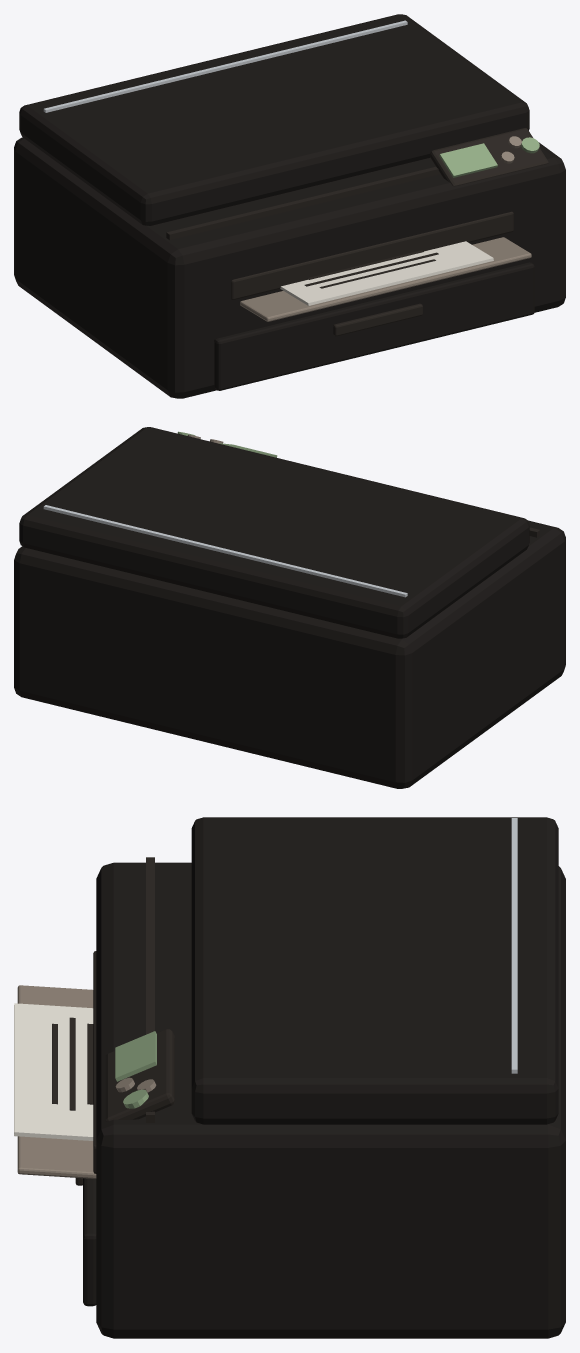
Rendered from hh_cat_printer.glb.
3 views of the same model, one above another, from view 1: azimuth 30°, elevation 25°; view 2: azimuth 150°, elevation 25°; view 3: azimuth 270°, elevation 25° (orthographic). The views are drawn at different scales.
Visible parts, largest first — view 1: scanner_lid, body, paper_drawer, output_slot, sheet, output_shelf, panel, lid_seam, hinge_line, display, drawer_grip; view 2: body, scanner_lid, hinge_line; view 3: body, scanner_lid, sheet, output_shelf, panel, hinge_line, paper_drawer, lid_seam, display, output_slot, print_line.002.
Part boxes in pixels (x1,y1,x2,y2): scanner_lid: (19,14,529,225); body: (14,137,565,398); paper_drawer: (214,262,534,390); output_slot: (231,211,513,299); sheet: (280,241,493,305); output_shelf: (240,237,531,321); panel: (430,128,548,186); lid_seam: (166,144,540,240); hinge_line: (43,20,407,112); display: (439,143,497,177); drawer_grip: (333,303,422,336); body: (14,520,565,788); scanner_lid: (19,427,529,638); hinge_line: (43,505,407,597); body: (96,862,565,1338); scanner_lid: (191,817,558,1124); sheet: (14,1003,93,1140); output_shelf: (17,985,96,1178); panel: (105,1029,174,1121); hinge_line: (511,818,517,1073); paper_drawer: (83,1178,96,1306); lid_seam: (146,857,154,1122); display: (115,1031,156,1081); output_slot: (93,951,96,1173); print_line.002: (69,1017,75,1110).
Bounding box in the file's own units: 0.45 × 0.2 × 0.38.
